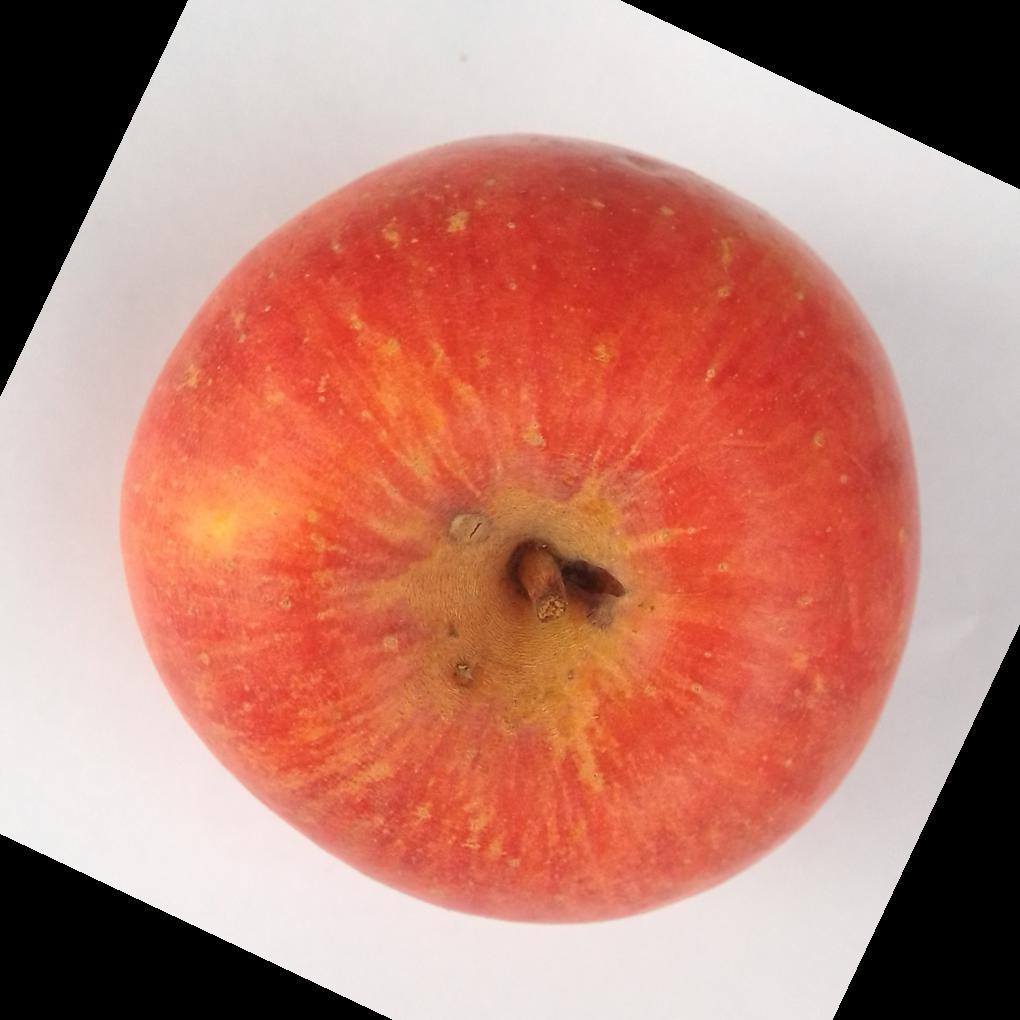FreshGuava: (116, 134, 924, 931)
